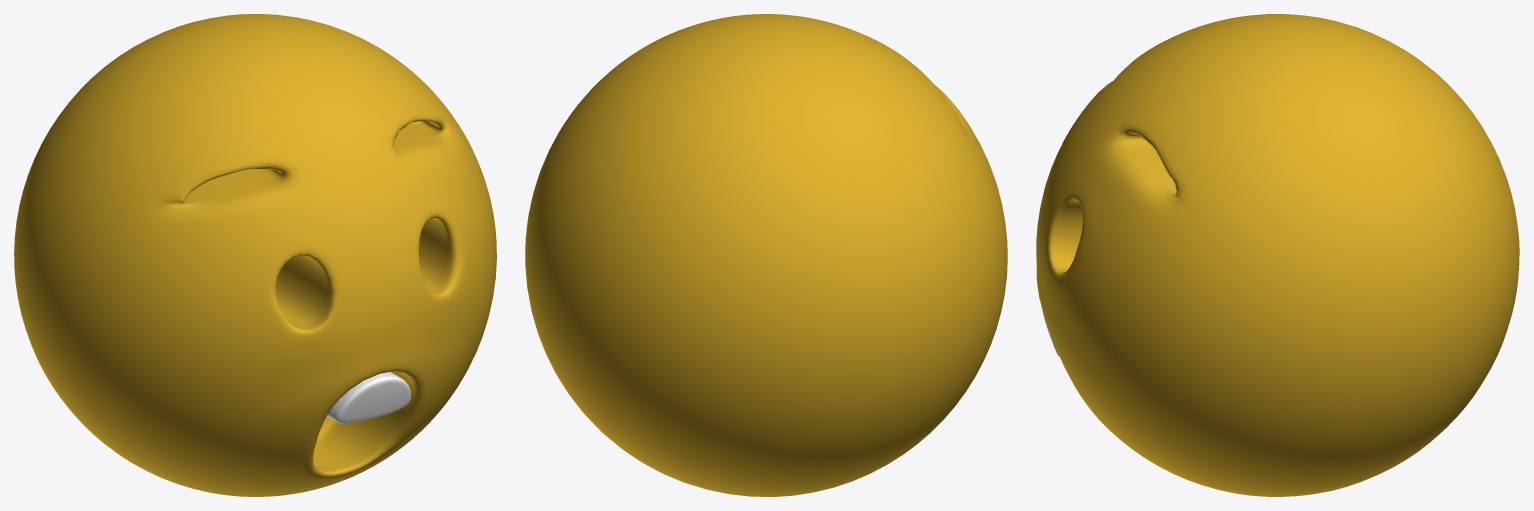
The model's file is surprised FBX.glb.
The picture shows the model from 3 angles, left to right: view 1: azimuth 30°, elevation 25°; view 2: azimuth 150°, elevation 25°; view 3: azimuth 270°, elevation 25°; orthographic projection.
Parts seen in each view (by area): view 1: Group62138, Group60962; view 2: Group62138; view 3: Group62138.
Part boxes in pixels (left/top/right/bottom): Group62138: left=14, top=14, right=496, bottom=496; Group60962: left=327, top=372, right=410, bottom=423; Group62138: left=525, top=14, right=1007, bottom=496; Group62138: left=1036, top=14, right=1519, bottom=496.
Bounding box in the file's own units: 0.5858 × 0.5864 × 0.5858.
